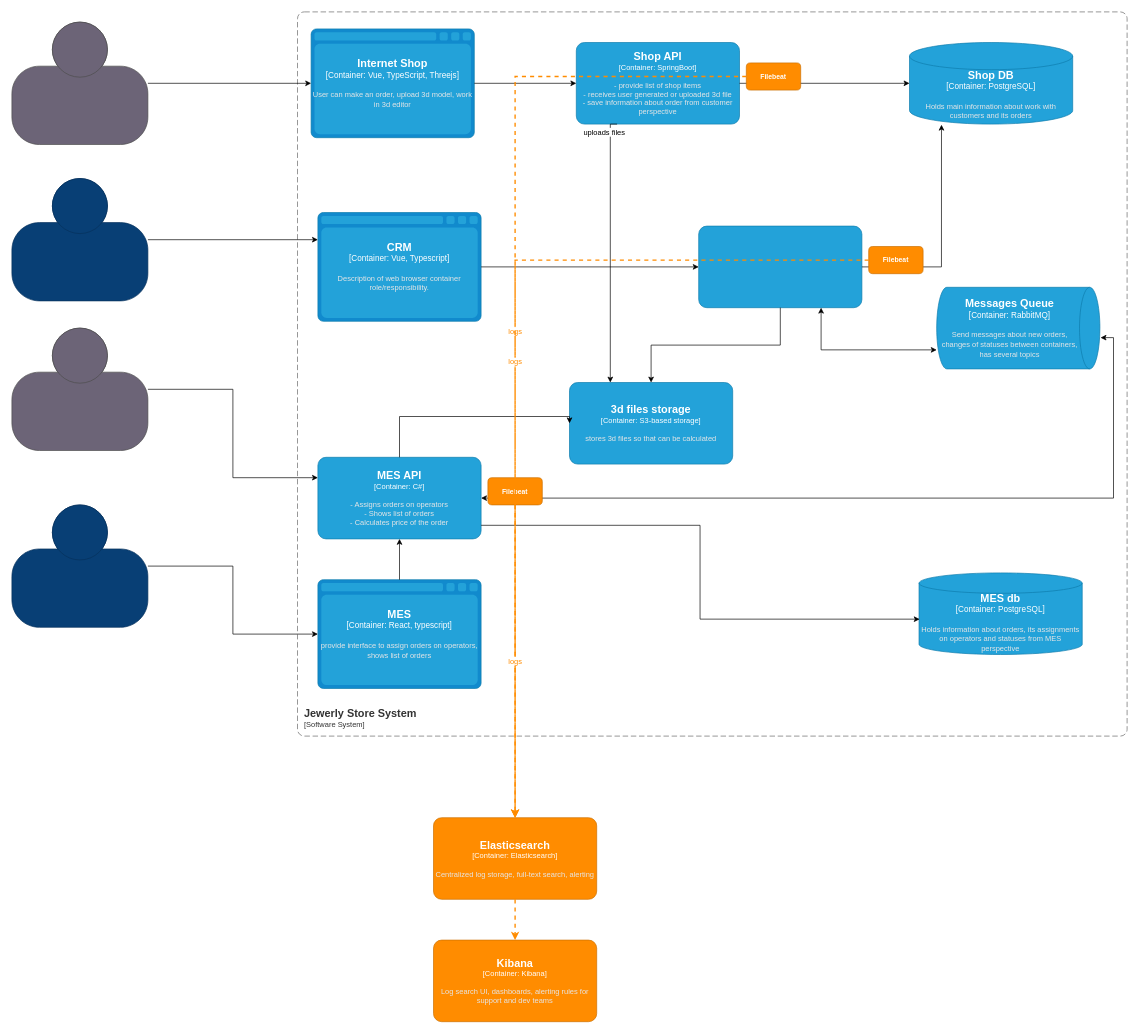
This 1139x1034 diagram has some shape labels left out. Here are the shapes that lost their labels. From the top down, the centre of each, then its label:
At point 79,82: "Customer [Person] Description of external person.".
At point 79,239: "Seller [Person] Operates with order, confirms manufacturing for the user".
At point 780,266: "CRM API [Container: SpringBoot] Description of container role/responsibility.".
At point 79,389: "API user [Person] Description of external person.".
At point 79,565: "Operator [Person] Takes order in work, manufactures jewerly".
